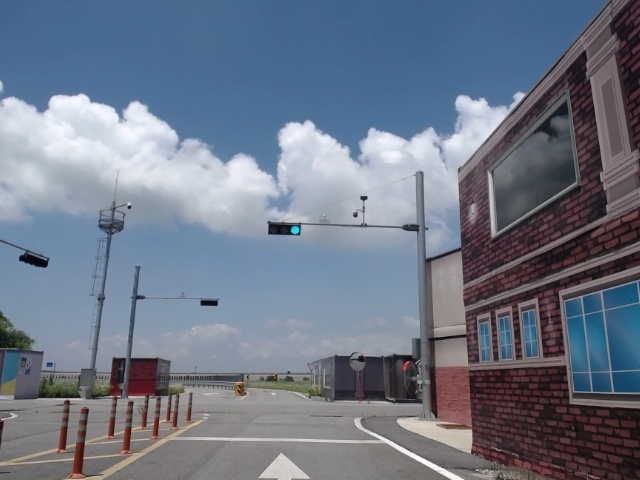green_3: (269, 223, 298, 235)
